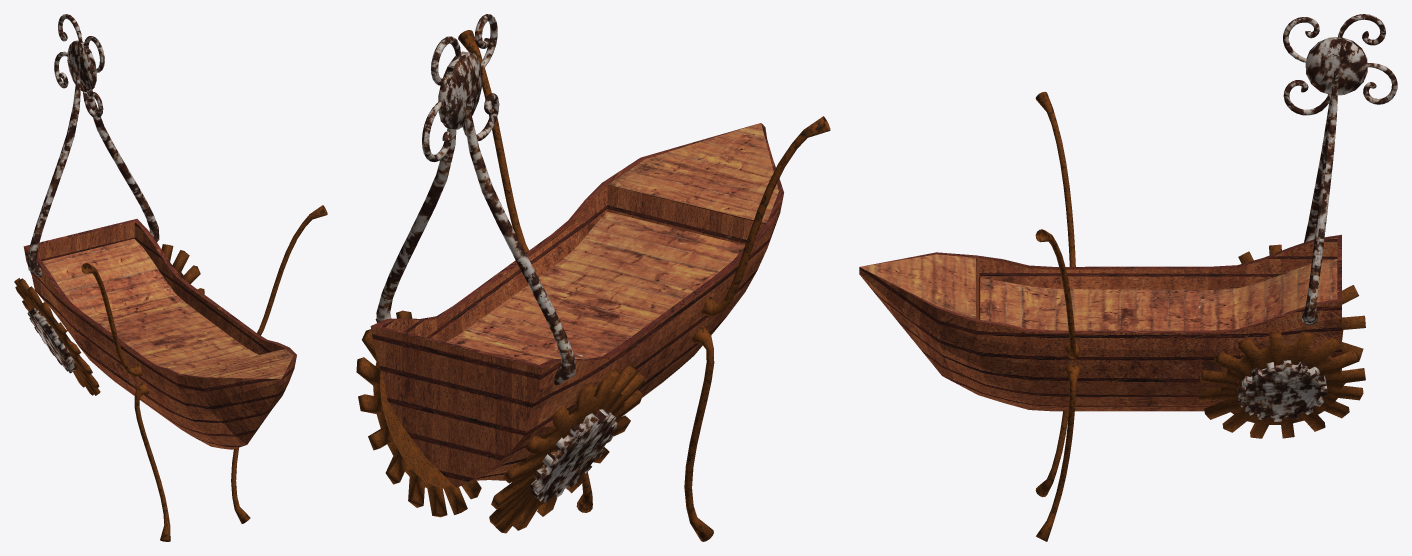
The model's file is Barco_02 Sky Schooner.fbx.
The picture shows the model from 3 angles, left to right: view 1: azimuth 30°, elevation 25°; view 2: azimuth 150°, elevation 25°; view 3: azimuth 270°, elevation 25°; orthographic projection. The views are drawn at different scales.
Parts seen in each view (by area): view 1: Boat, Pipeline, Horns, Gear2, Wheel, Gear1; view 2: Boat, Gear2, Pipeline, Horns, Wheel, Gear1; view 3: Boat, Gear2, Wheel, Pipeline, Gear1, Horns.
Part boxes in pixels (x1=…): Boat: x1=23, y1=219, x2=296, y2=449; Pipeline: x1=81, y1=205, x2=327, y2=541; Horns: x1=27, y1=67, x2=159, y2=277; Gear2: x1=14, y1=244, x2=204, y2=395; Wheel: x1=54, y1=14, x2=104, y2=118; Gear1: x1=27, y1=308, x2=76, y2=373; Boat: x1=370, y1=123, x2=783, y2=487; Gear2: x1=356, y1=310, x2=644, y2=533; Pipeline: x1=458, y1=30, x2=830, y2=541; Horns: x1=376, y1=92, x2=575, y2=385; Wheel: x1=422, y1=14, x2=499, y2=162; Gear1: x1=530, y1=409, x2=617, y2=502; Boat: x1=859, y1=234, x2=1341, y2=411; Gear2: x1=1197, y1=244, x2=1365, y2=438; Wheel: x1=1283, y1=14, x2=1397, y2=115; Pipeline: x1=1035, y1=92, x2=1080, y2=541; Gear1: x1=1237, y1=360, x2=1327, y2=421; Horns: x1=1301, y1=70, x2=1338, y2=325.
Bounding box in the file's own units: 550 × 903 × 874.
Materials: 6 (5 with a texture image).
